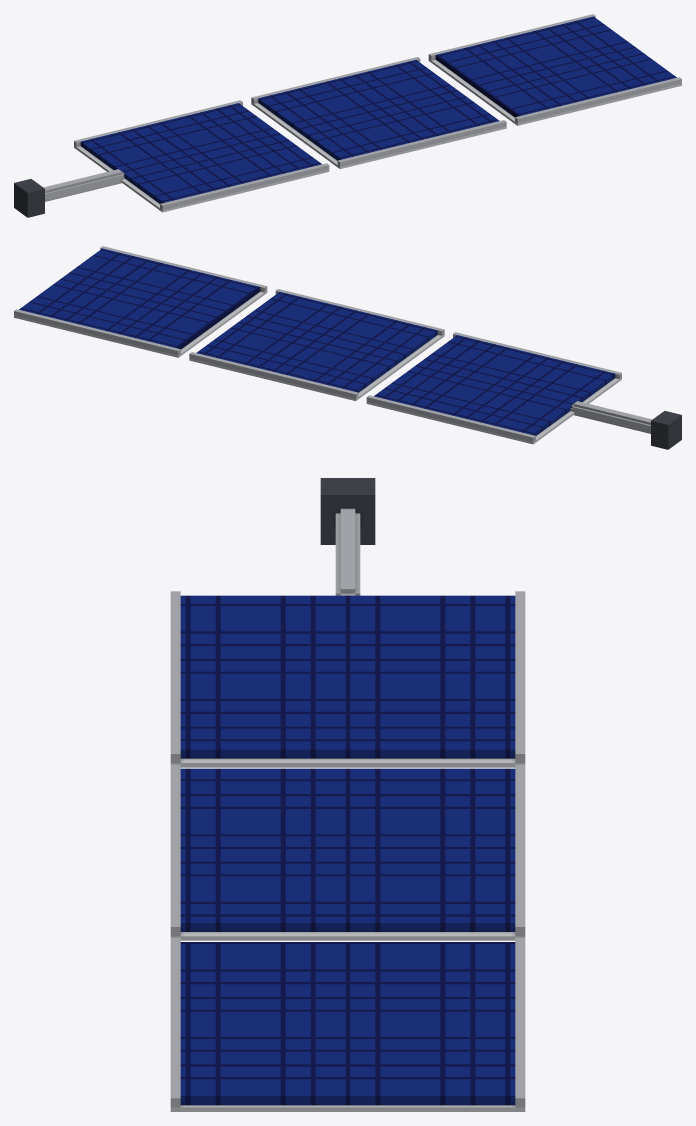
File: solar_wing.glb
3 views of the same model, one above another, from view 1: azimuth 30°, elevation 25°; view 2: azimuth 150°, elevation 25°; view 3: azimuth 270°, elevation 25° (orthographic). The views are drawn at different scales.
Visible parts, largest first — view 1: solar_wing; view 2: solar_wing; view 3: solar_wing.
Boxes of the visible parts, x1=… form: solar_wing: x1=14, y1=14, x2=681, y2=217; solar_wing: x1=14, y1=246, x2=681, y2=449; solar_wing: x1=170, y1=478, x2=525, y2=1111.
Bounding box in the file's own units: 4.45 × 0.1719 × 1.11.
